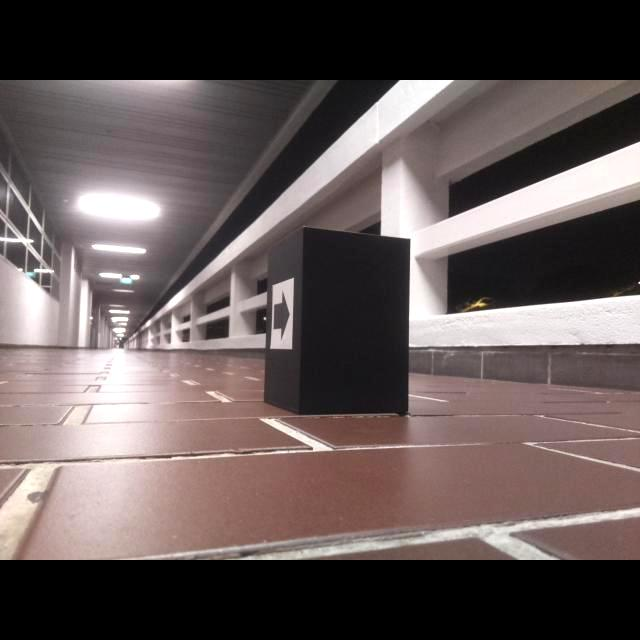RIGHT: (273, 292, 291, 341)
